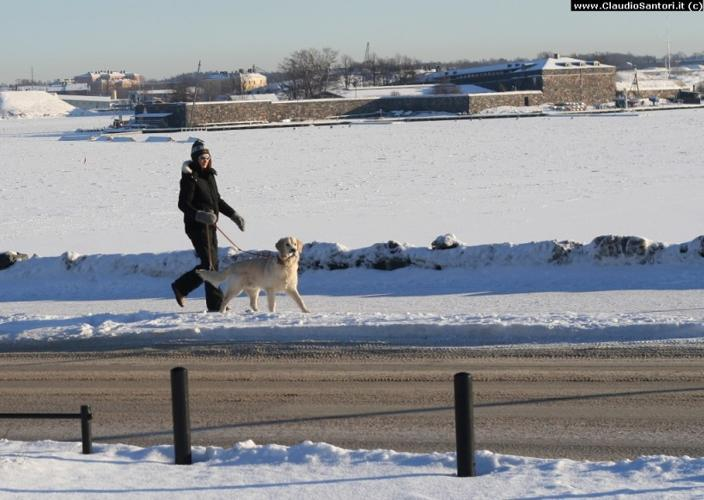person: (172, 137, 246, 313)
